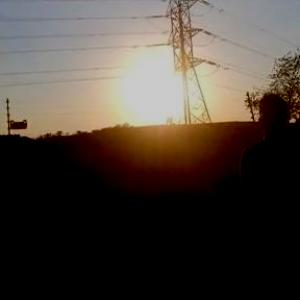follow: (221, 94, 300, 299)
